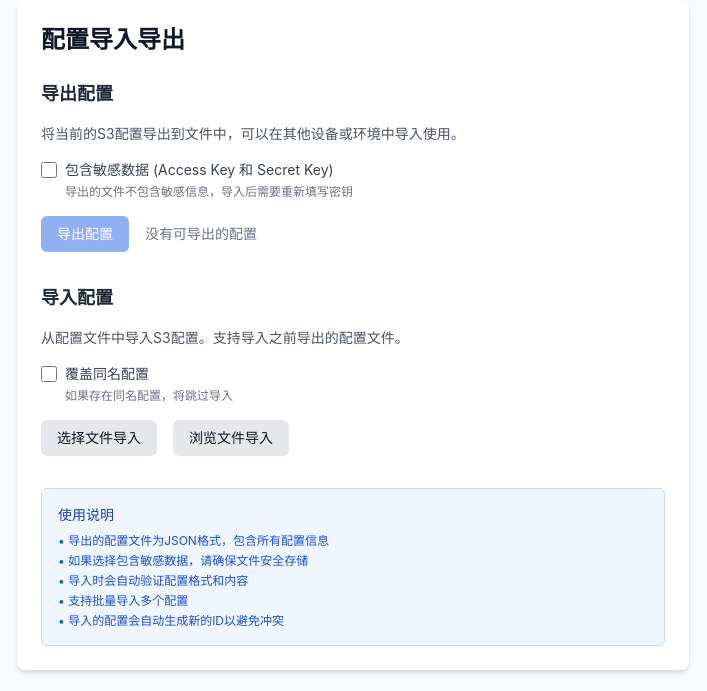
Test: ConfigImportExport › Export Functionality › should update sensitive data warning text
Expected: the text "导出的文件不包含敏感信息，导入后需要重新填写密钥" is shown, [65, 184, 353, 199]
Click the checkbox labelled "包含敏感数据 (Access Key 和 Secret Key)": [49, 170] box [41, 162, 57, 178]
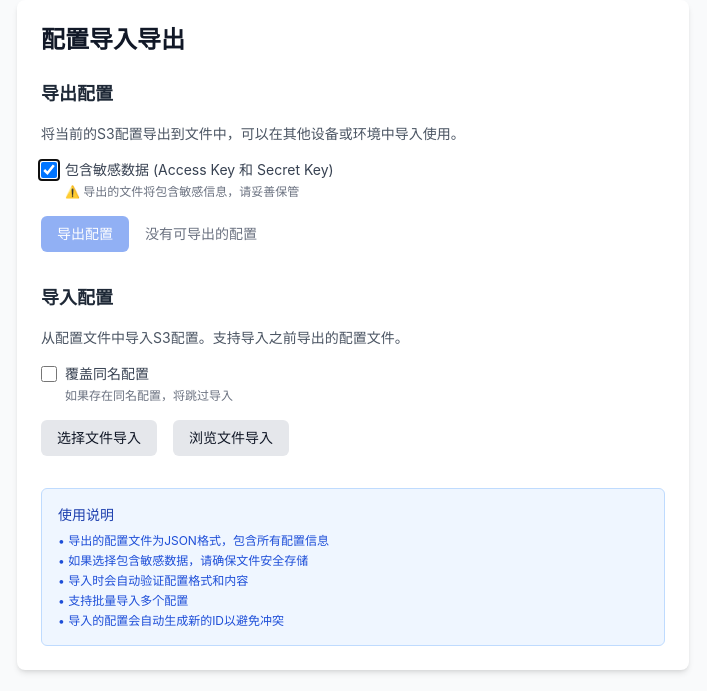
Expected: the text "⚠️ 导出的文件将包含敏感信息，请妥善保管" is shown, [65, 184, 299, 199]
